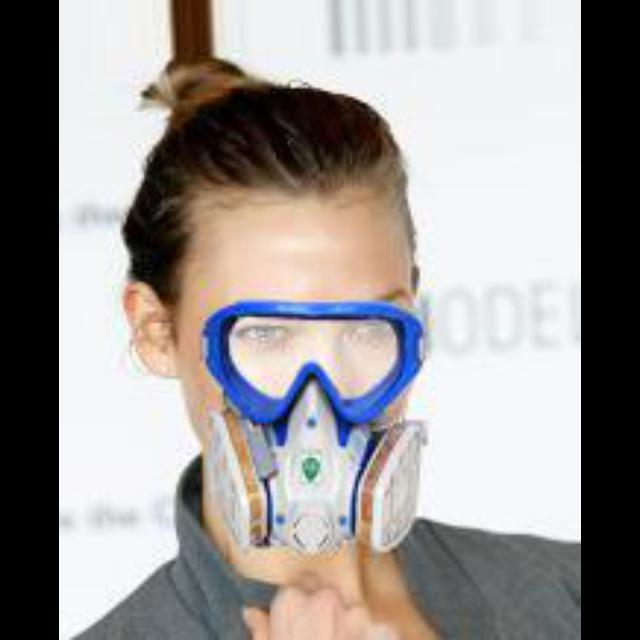suspicion: (158, 70, 442, 570)
